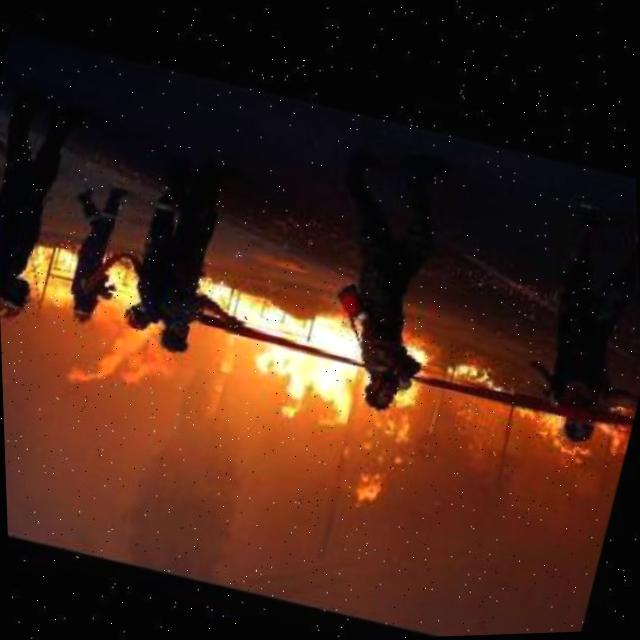fire: (184, 267, 465, 536), (0, 225, 241, 421), (432, 344, 640, 493)
